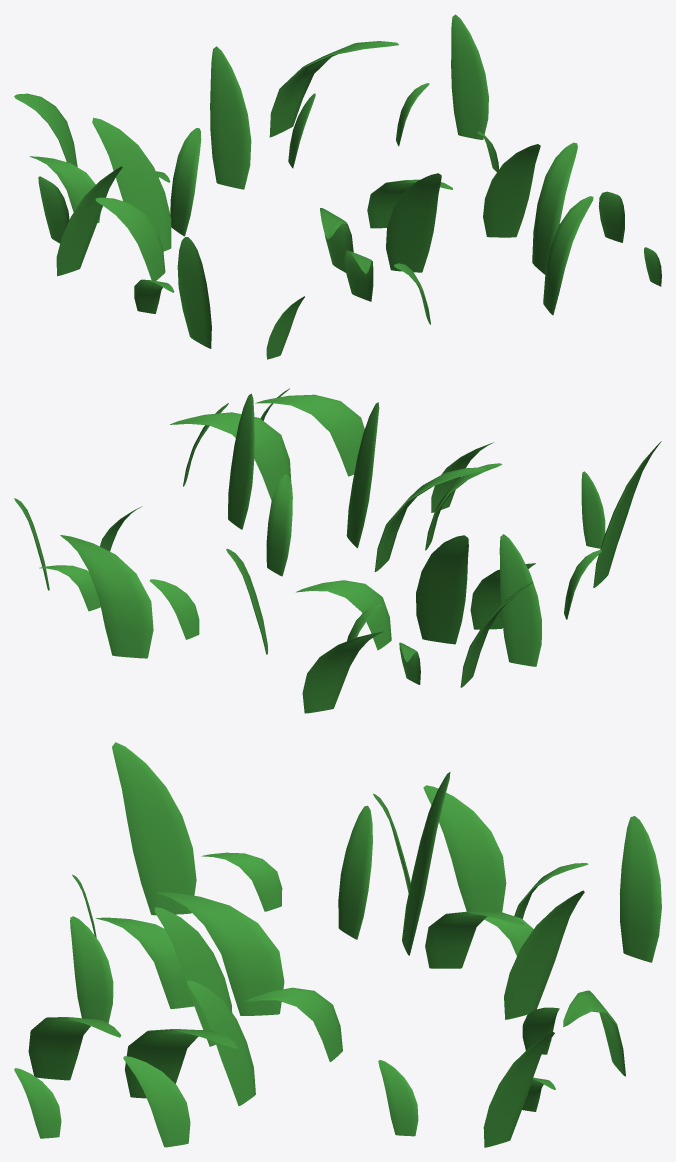
File: grass clump 1.fbx
3 views of the same model, one above another, from view 1: azimuth 30°, elevation 25°; view 2: azimuth 150°, elevation 25°; view 3: azimuth 270°, elevation 25° (orthographic). The views are drawn at different scales.
Visible parts, largest first — view 1: Grass Clump 1; view 2: Grass Clump 1; view 3: Grass Clump 1.
Boxes of the visible parts, x1,y1,x2,y2 form: Grass Clump 1: (14, 14, 661, 359); Grass Clump 1: (14, 388, 661, 713); Grass Clump 1: (14, 742, 661, 1147).
Bounding box in the file's own units: 207 × 55.59 × 216.
